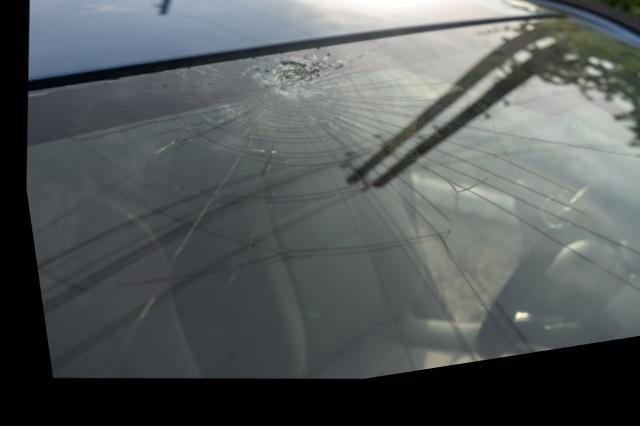glass shatter: (21, 32, 640, 389)
